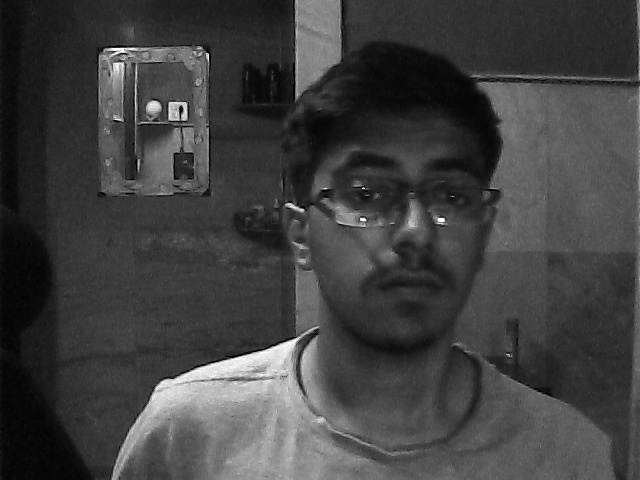nomask: (302, 83, 487, 353)
